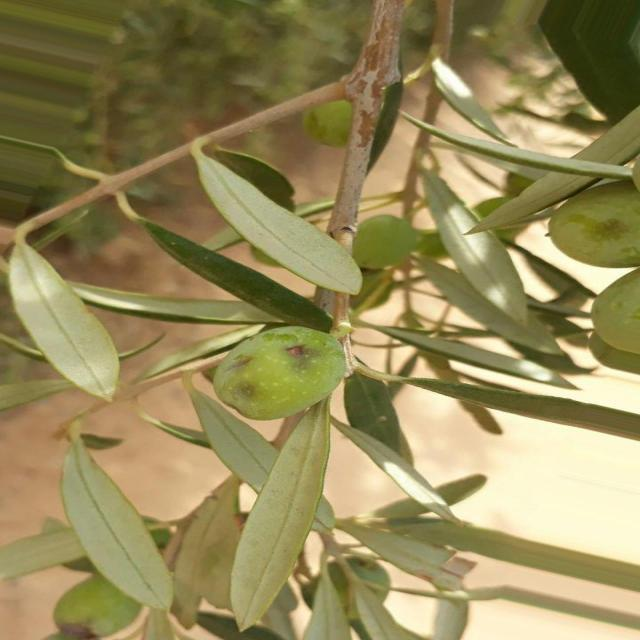Anthracnose: (212, 327, 346, 420), (548, 180, 640, 268)
